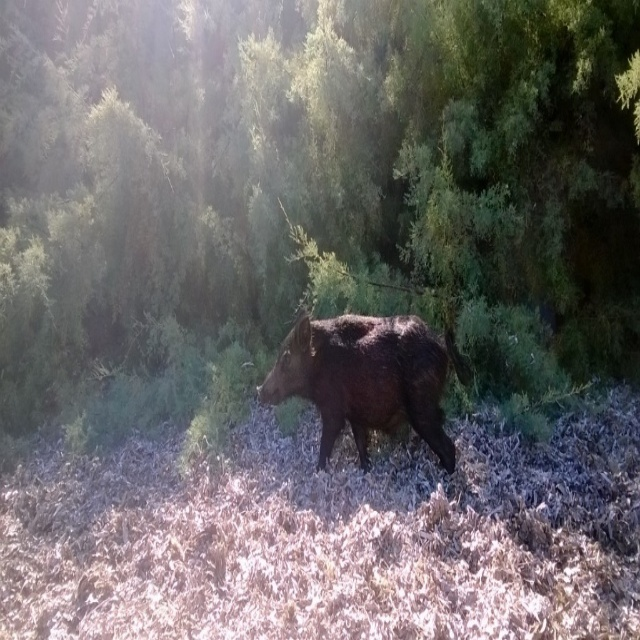Pig: (255, 304, 459, 480)
